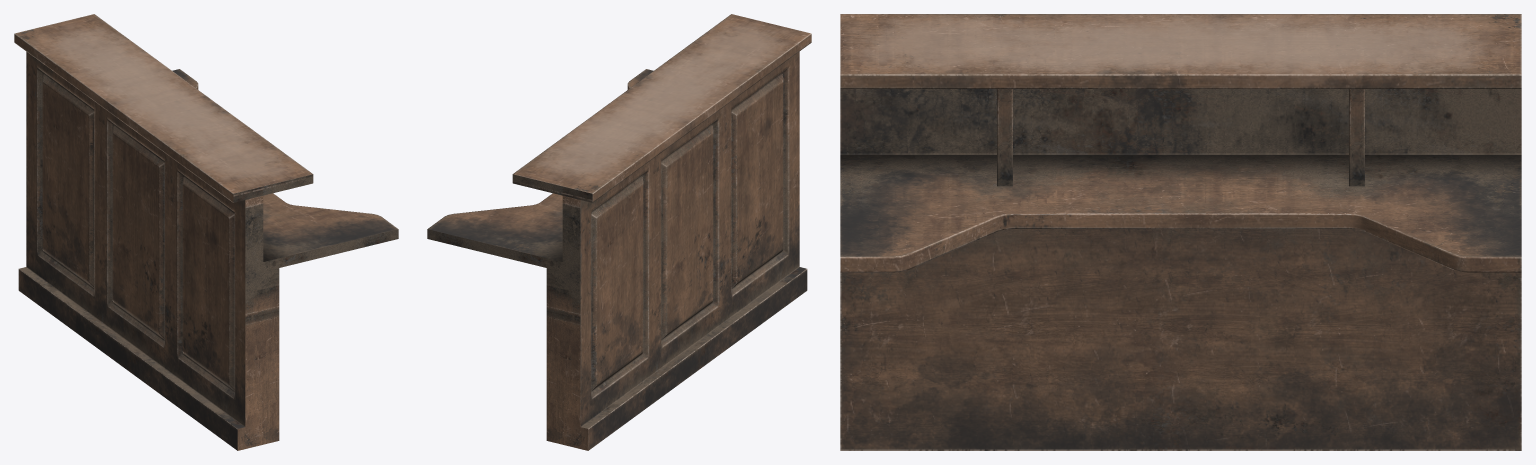
Rendered from SM_ReceptionDesk01_1_LOD0.glb.
The picture shows the model from 3 angles, left to right: view 1: azimuth 30°, elevation 25°; view 2: azimuth 150°, elevation 25°; view 3: azimuth 270°, elevation 25°; orthographic projection. The views are drawn at different scales.
Visible parts, largest first — view 1: SM_ReceptionDesk01_1_LOD0; view 2: SM_ReceptionDesk01_1_LOD0; view 3: SM_ReceptionDesk01_1_LOD0.
Boxes of the visible parts, bbox=[...] form: SM_ReceptionDesk01_1_LOD0: bbox=[14, 14, 398, 450]; SM_ReceptionDesk01_1_LOD0: bbox=[427, 14, 811, 450]; SM_ReceptionDesk01_1_LOD0: bbox=[840, 14, 1521, 450].
Bounding box in the file's own units: 0.8716 × 1.3 × 2.
1 material, 1 textured.
